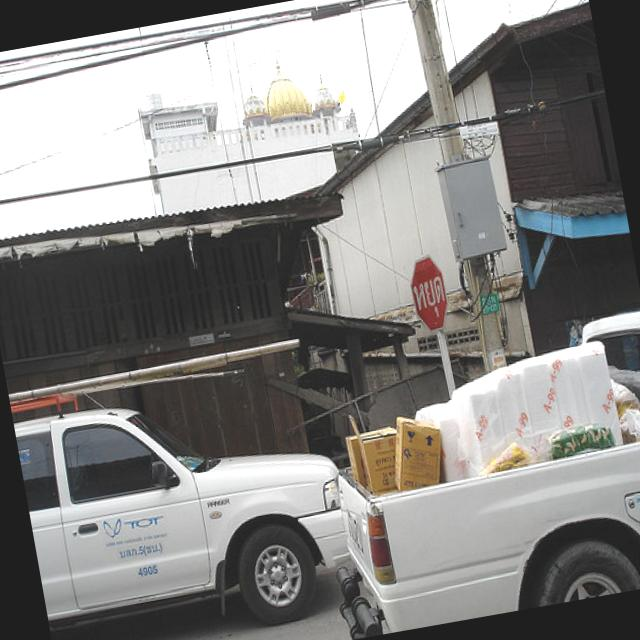Vehicle: (295, 307, 640, 640), (8, 342, 360, 640), (12, 363, 365, 640)
